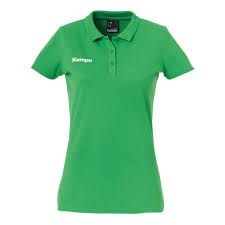C_polo shirt: (37, 21, 186, 219)
